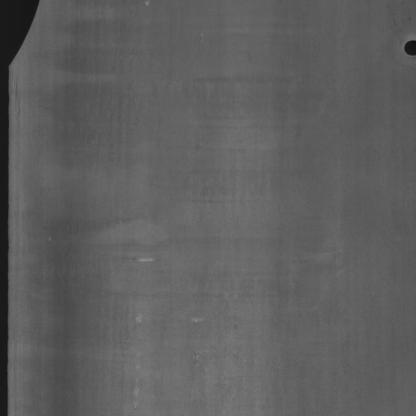crescent_gap: (5, 0, 49, 82)
punching_hole: (400, 34, 416, 56)
